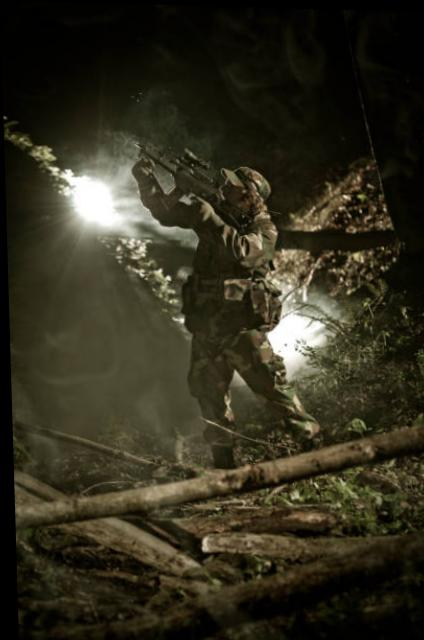other: (155, 153, 285, 457)
